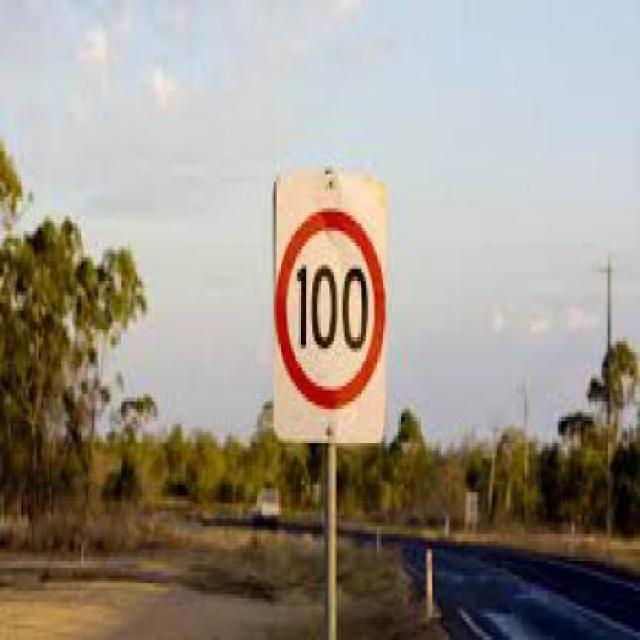speed limit 100: (273, 206, 386, 409)
